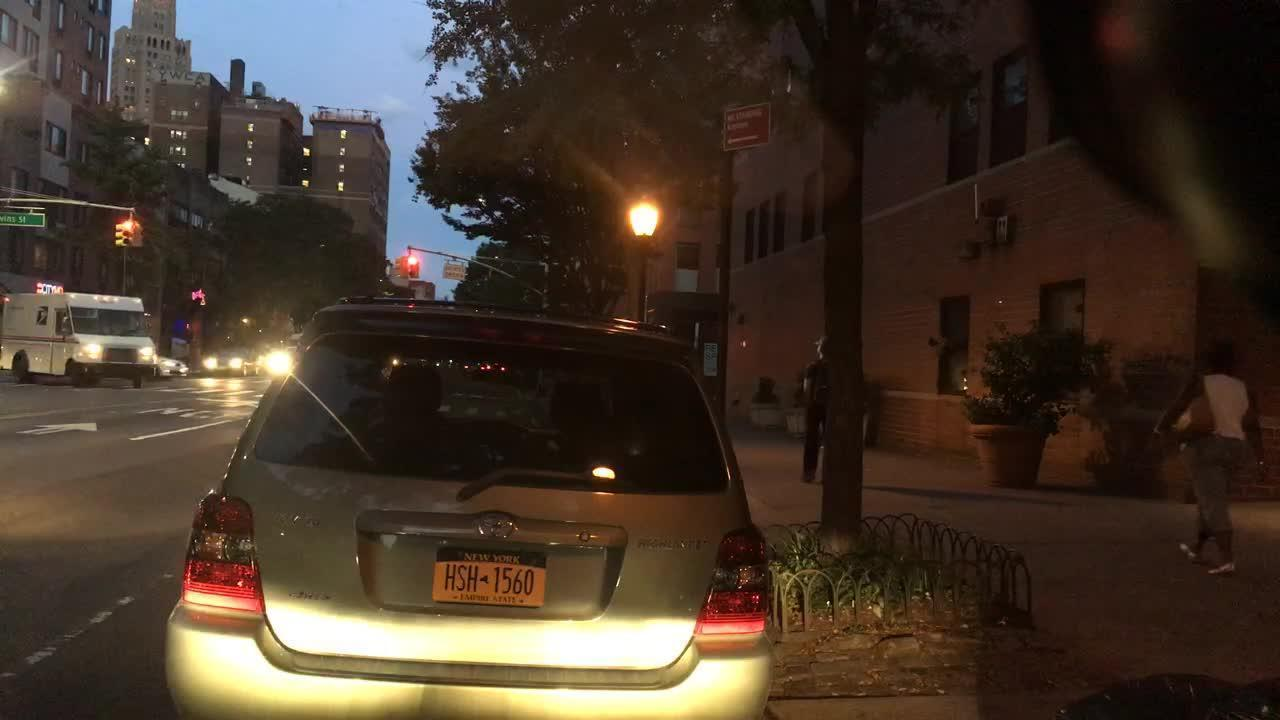Toyota: (460, 498, 526, 545)
